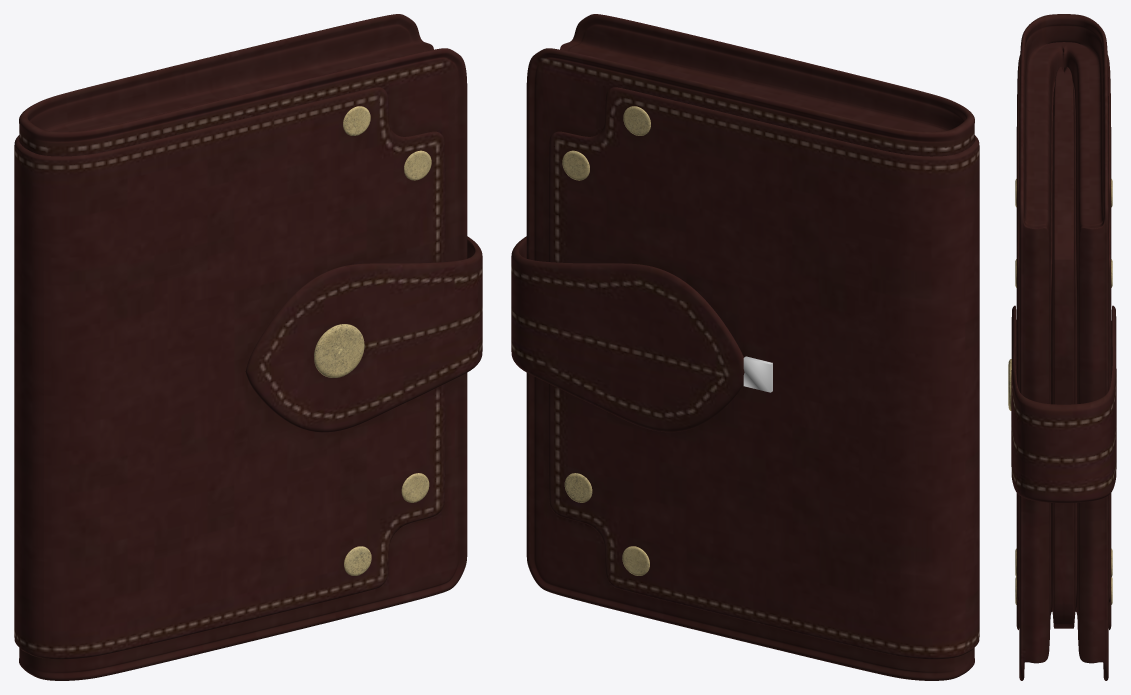
File: wallet.optimized.glb
The picture shows the model from 3 angles, left to right: view 1: azimuth 30°, elevation 25°; view 2: azimuth 150°, elevation 25°; view 3: azimuth 270°, elevation 25°; orthographic projection. The views are drawn at different scales.
Parts seen in each view (by area): view 1: Wallet; view 2: Wallet; view 3: Wallet.
Part boxes in pixels (x1,y1,x2,y2): Wallet: [14, 14, 482, 680]; Wallet: [511, 14, 979, 680]; Wallet: [1008, 14, 1116, 680].
Bounding box in the file's own units: 33.47 × 38.8 × 7.68.
Materials: 3 (2 with a texture image).
